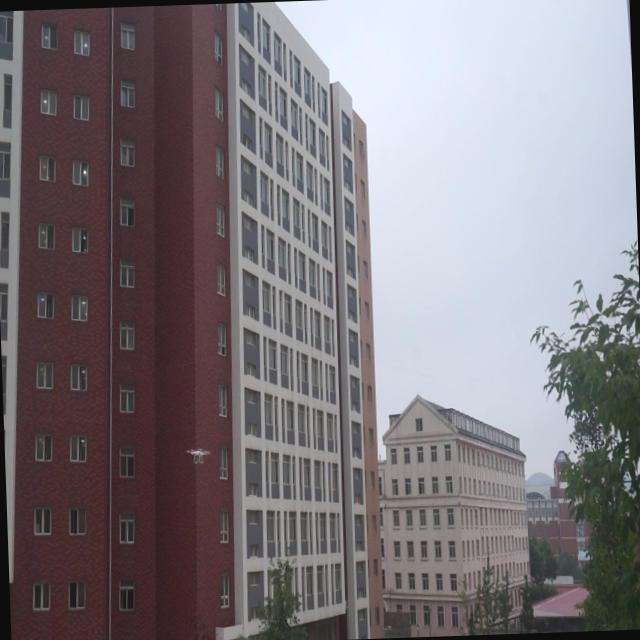drone: (186, 444, 210, 466)
